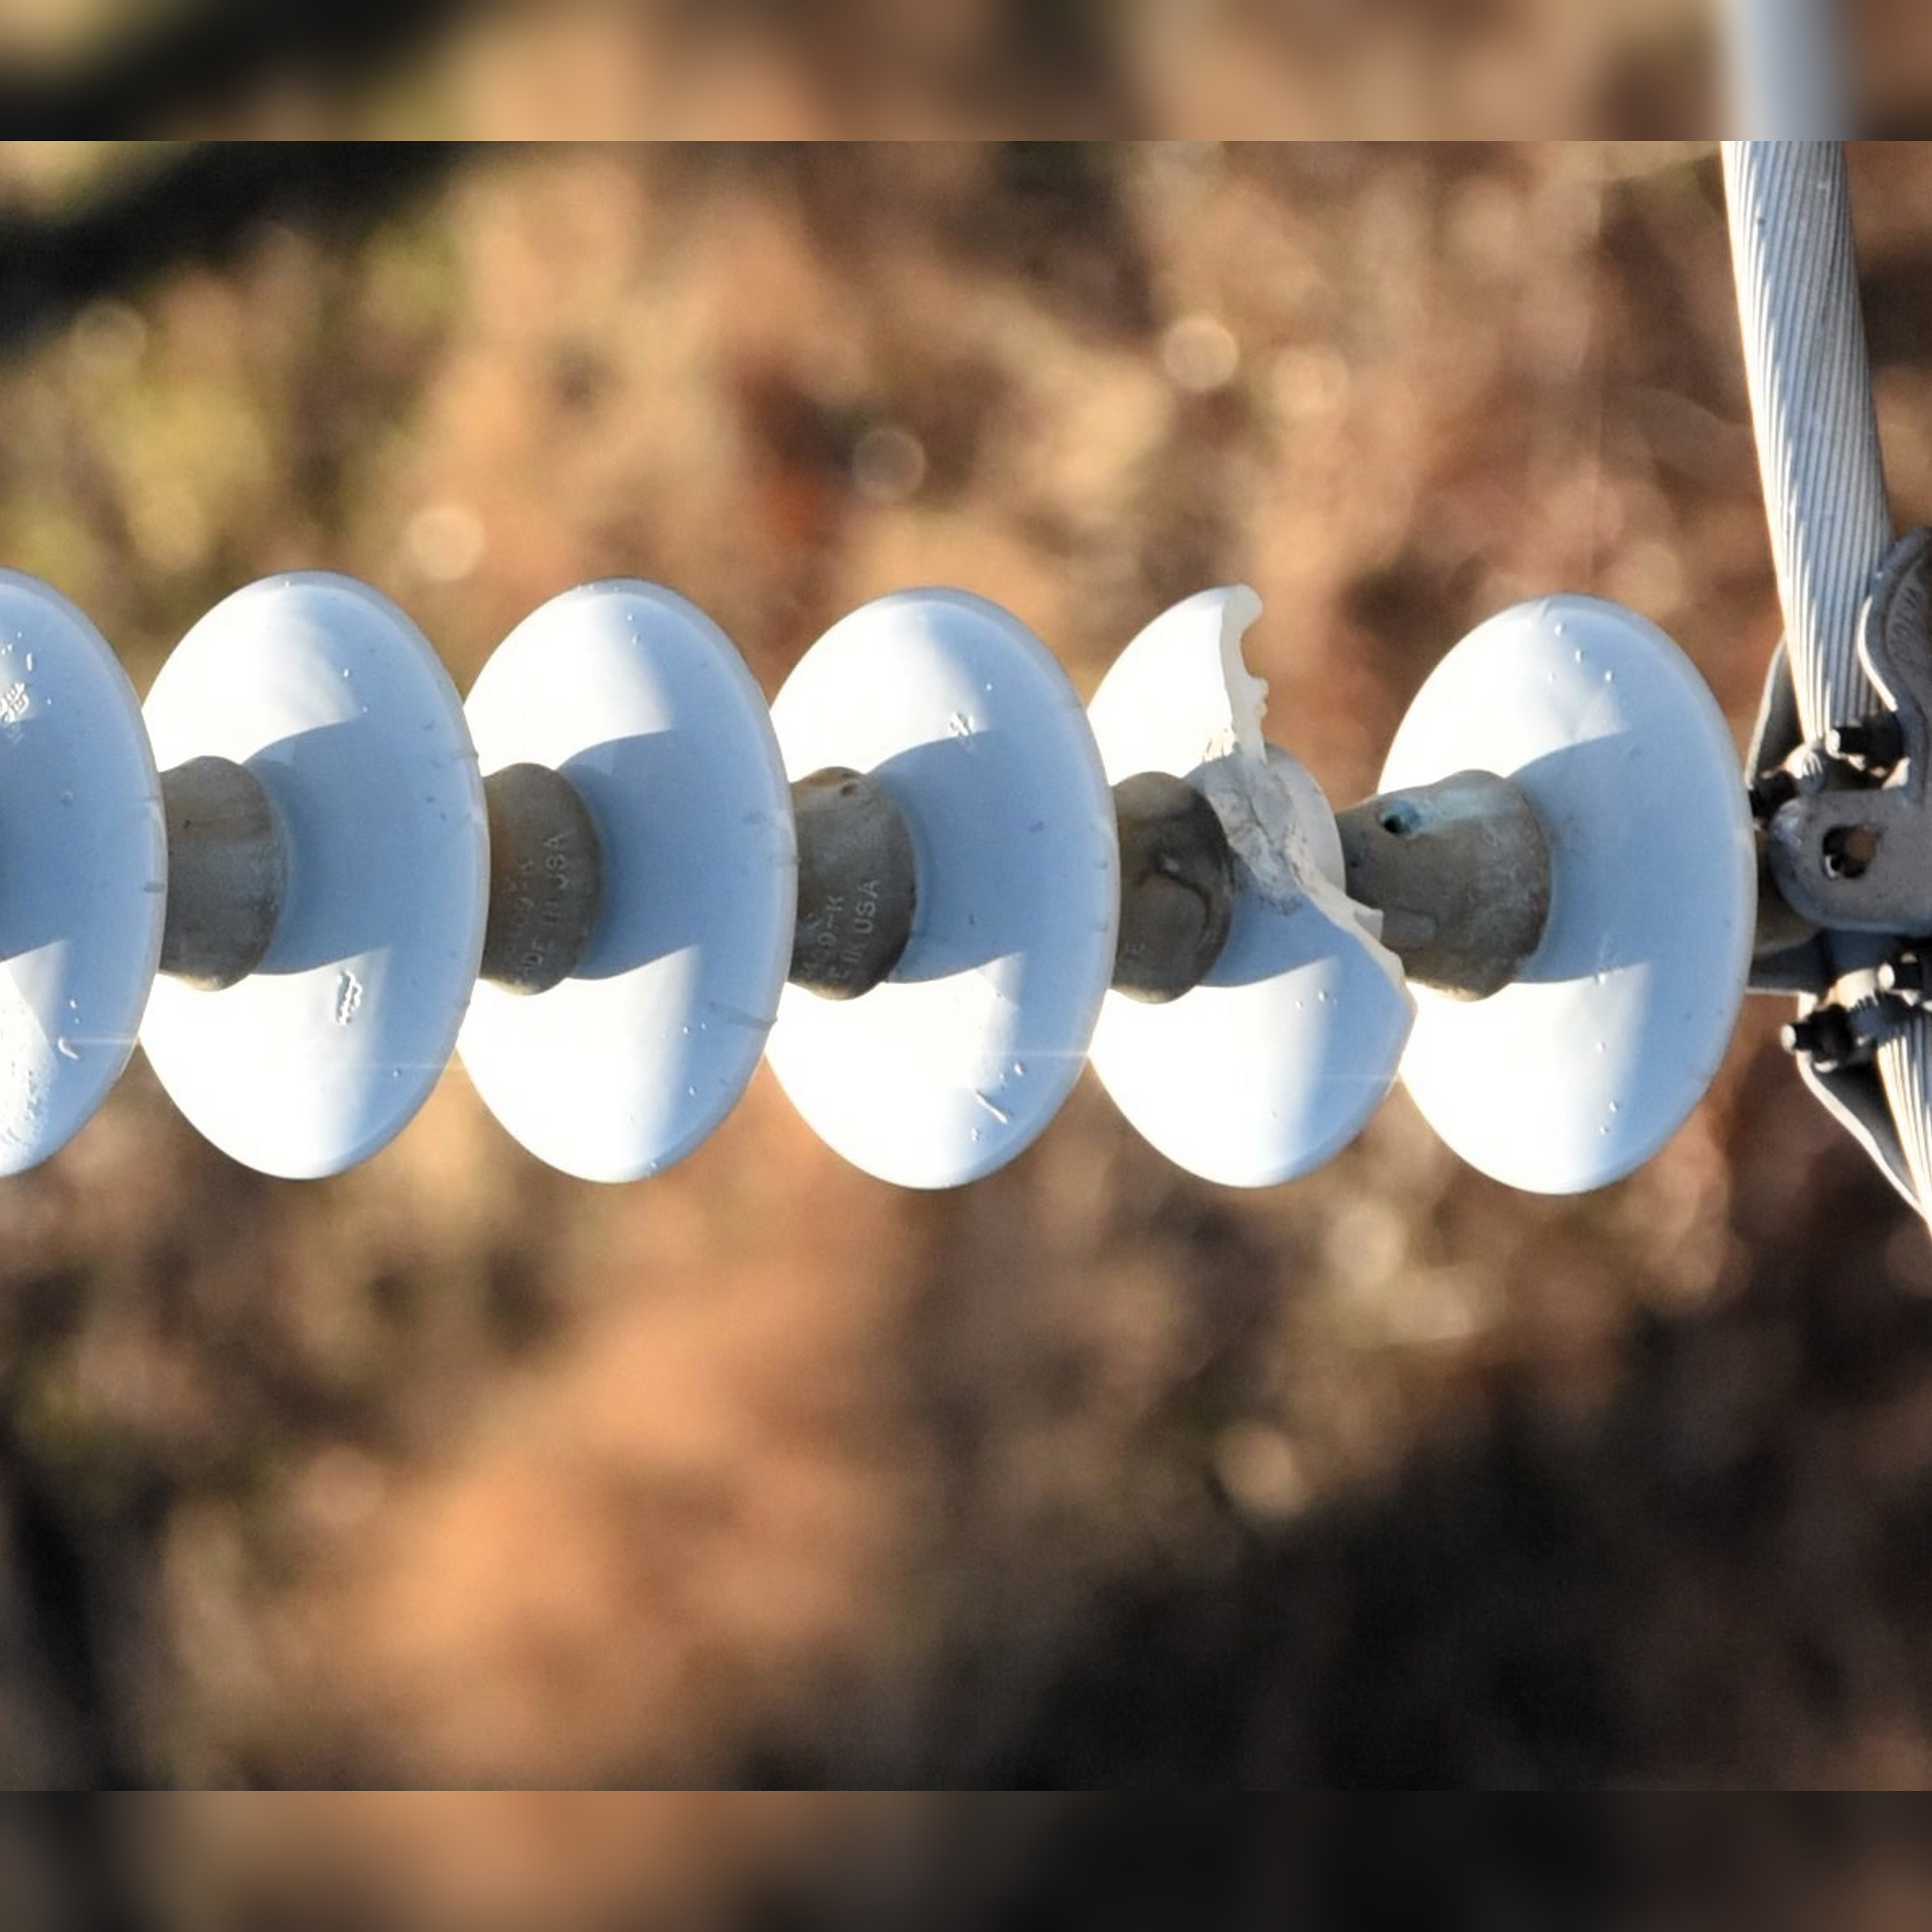insulator breakage: (1067, 579, 1431, 1203)
